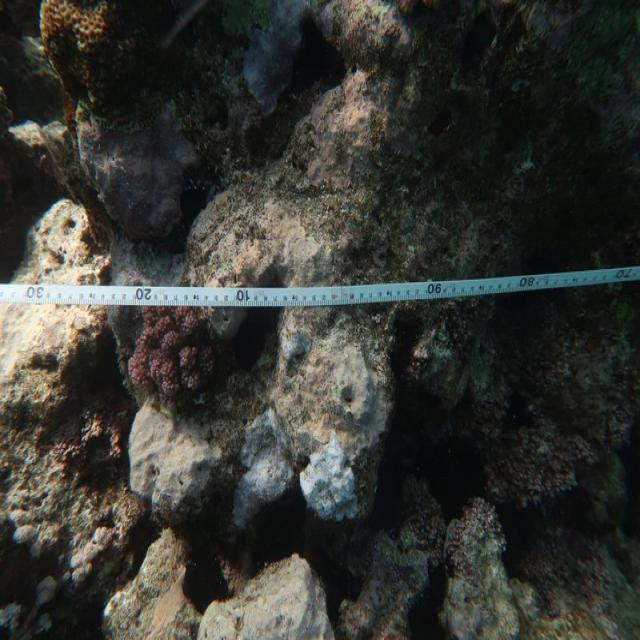Bleached Coral: (298, 435, 367, 523)
Healthy Coral: (32, 4, 147, 125), (121, 295, 220, 420)
